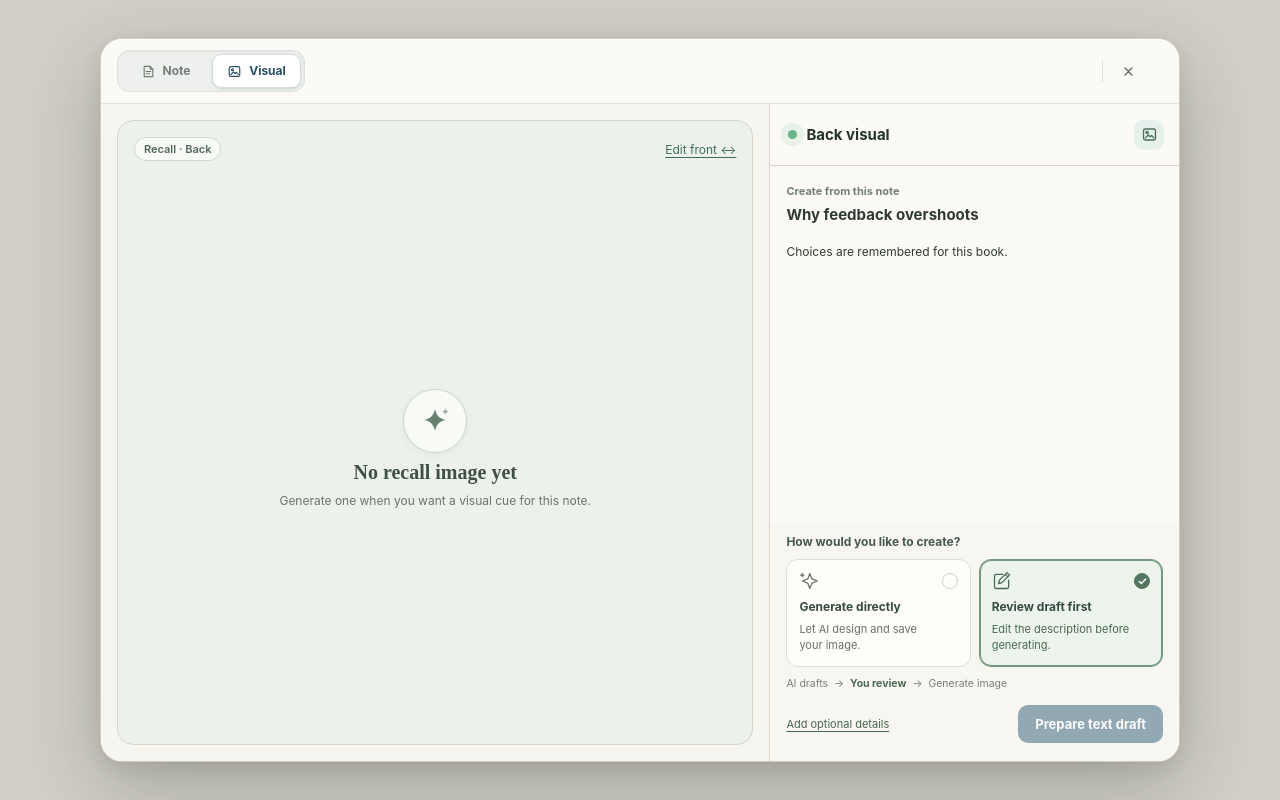
Test case: clicking either visible half of the side control always flips to the opposite side
Click the text "Visual": x=268, y=71 [249, 65, 286, 77]
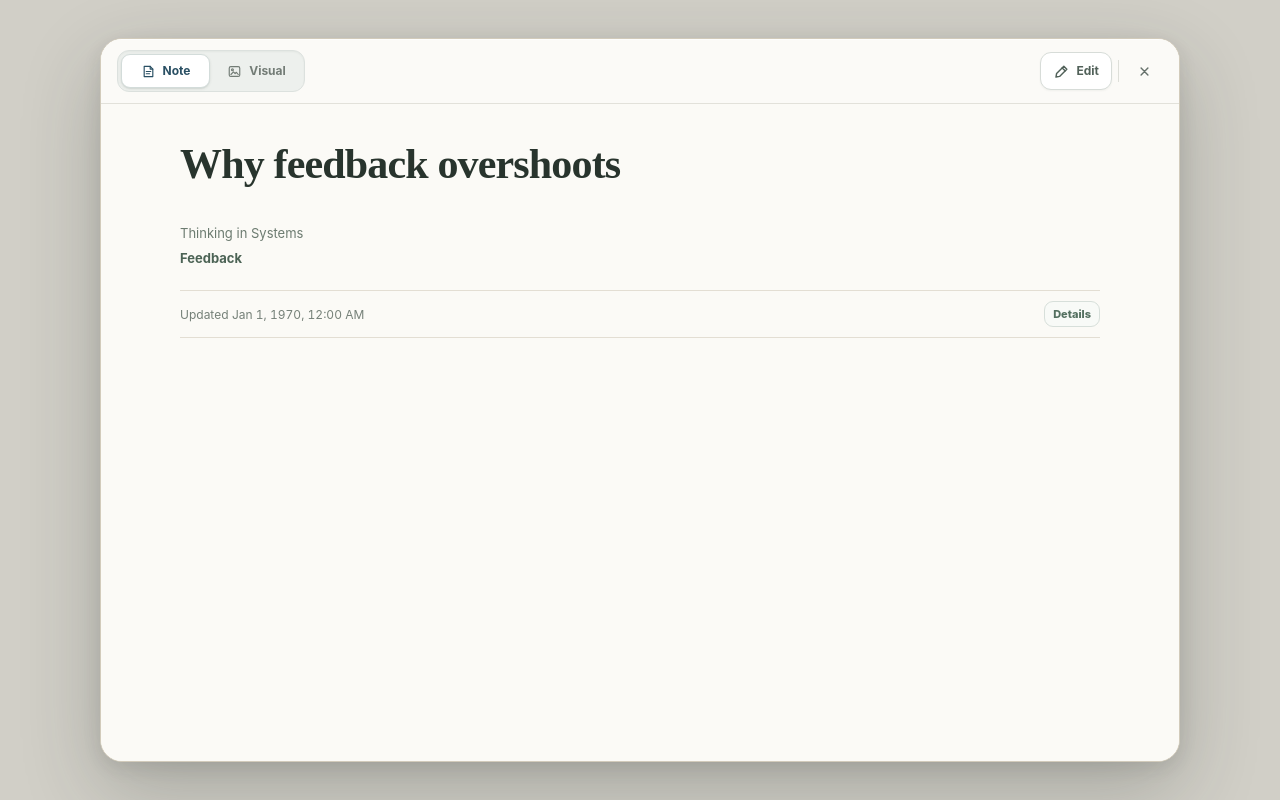
Result: the element named "Reading note front" is shown
Click the text "Note": x=176, y=71 [162, 65, 190, 77]
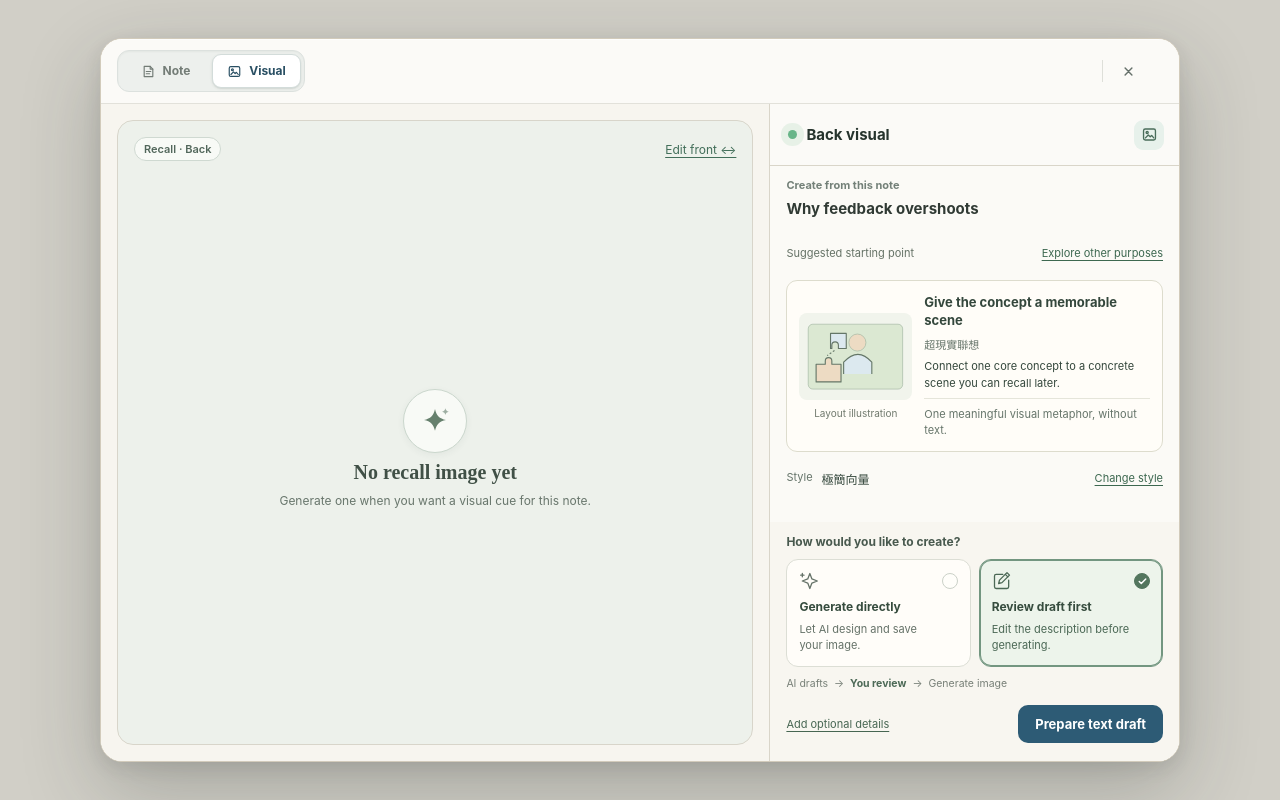
Result: the element named "Reading note back" is shown
